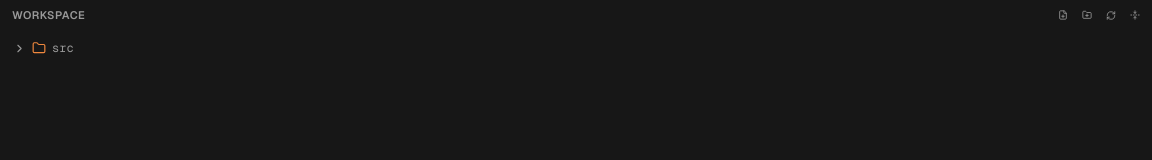
Test: FileExplorer context menus › creates a file from blank-area menu at workspace root and refreshes tree
Expected: the text "src" is shown, [52,40,74,56]
Expected: the text "notes.md" is not shown
Right-click the element with class "file-explorer" at {"x": 49, "y": 15}, box [12,4,1146,56]
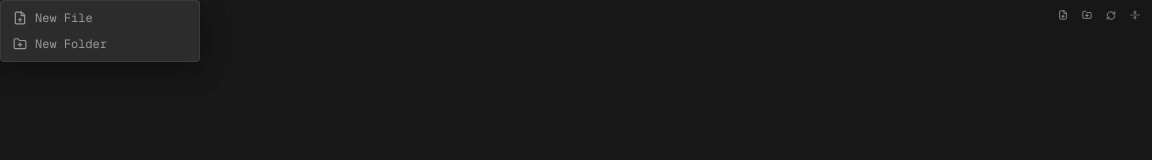
Click the menu item "New File" at {"x": 100, "y": 18}, box [5,5,195,31]
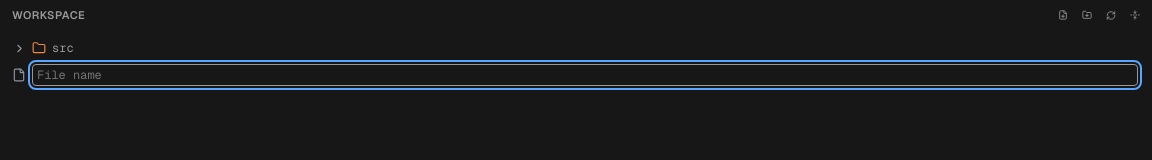
Type "notes.md" into the field named "New file name" at {"x": 585, "y": 75}, box [32,64,1138,86]
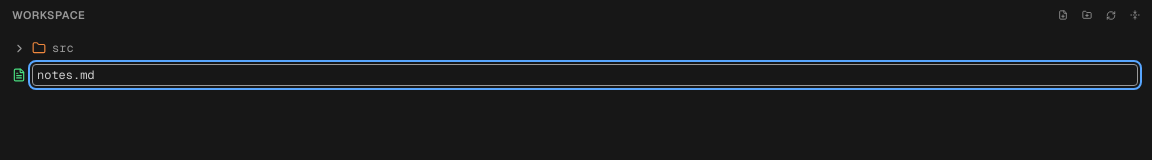
Press Enter in the field named "New file name", box [32,64,1138,86]
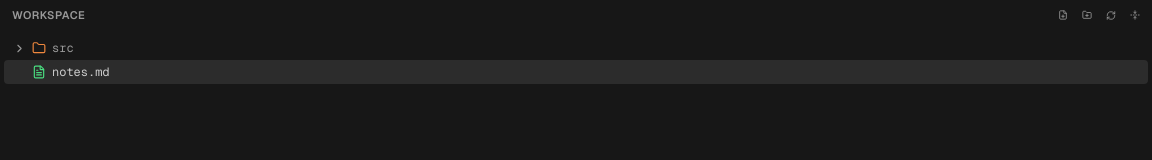
Expected: the text "notes.md" is shown, [52,64,110,80]
